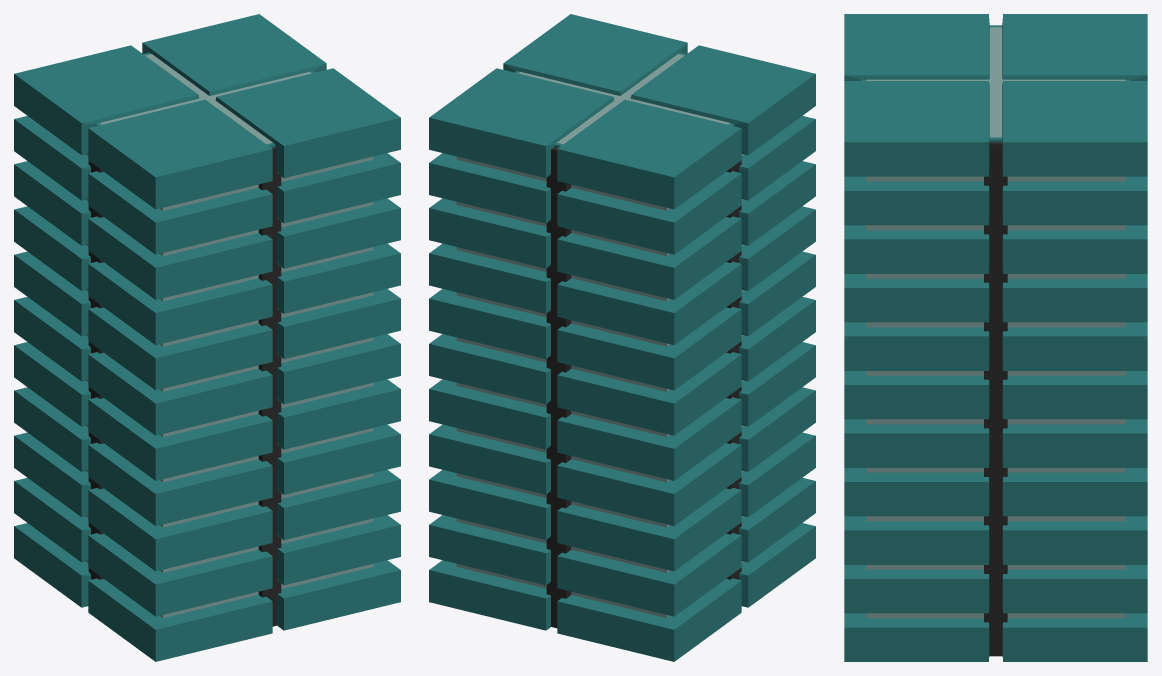
File: Building_1.fbx
3 renders of one model, left to right at view 1: azimuth 30°, elevation 25°; view 2: azimuth 150°, elevation 25°; view 3: azimuth 270°, elevation 25°, orthographic. The views are drawn at different scales.
Parts seen in each view (by area): view 1: pCube64; view 2: pCube64; view 3: pCube64.
Part boxes in pixels (bbox=[...]): pCube64: bbox=[14, 14, 400, 661]; pCube64: bbox=[429, 14, 815, 661]; pCube64: bbox=[844, 14, 1147, 661].
Size of the model in its own units: 2.31 by 4.36 by 2.31.
